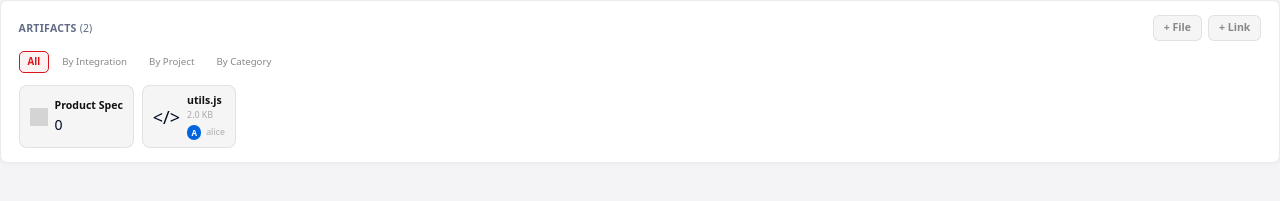
it: ArtifactsPanel › shows confirmation prompt after clicking Delete artifact
The image size is (1280, 201).
Expected: the text "Product Spec" is shown, [55, 98, 123, 114]
Right-click the text "Product Spec" at (76, 117), box [19, 86, 134, 148]
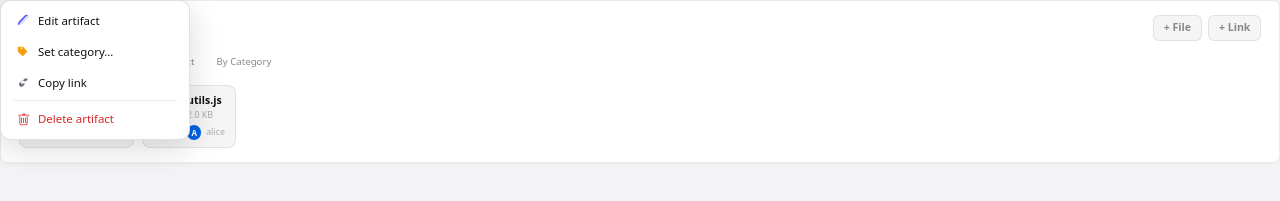
Click the button "Delete artifact" at (95, 119), box [5, 104, 185, 135]
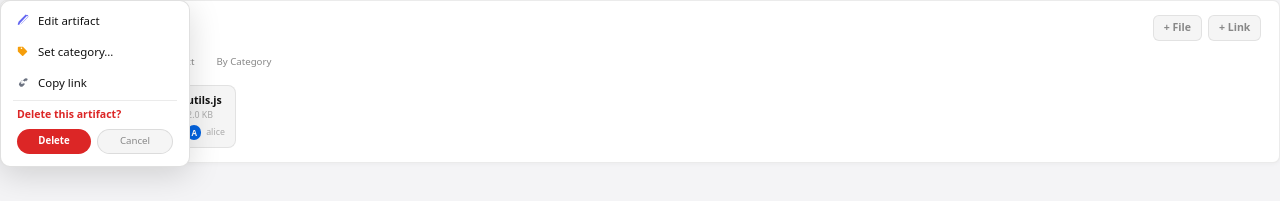
Expected: the text "Delete this artifact?" is shown, [17, 108, 121, 122]
Expected: the button "Delete" is shown, [17, 129, 91, 154]
Expected: the button "Cancel" is shown, [97, 129, 173, 154]
